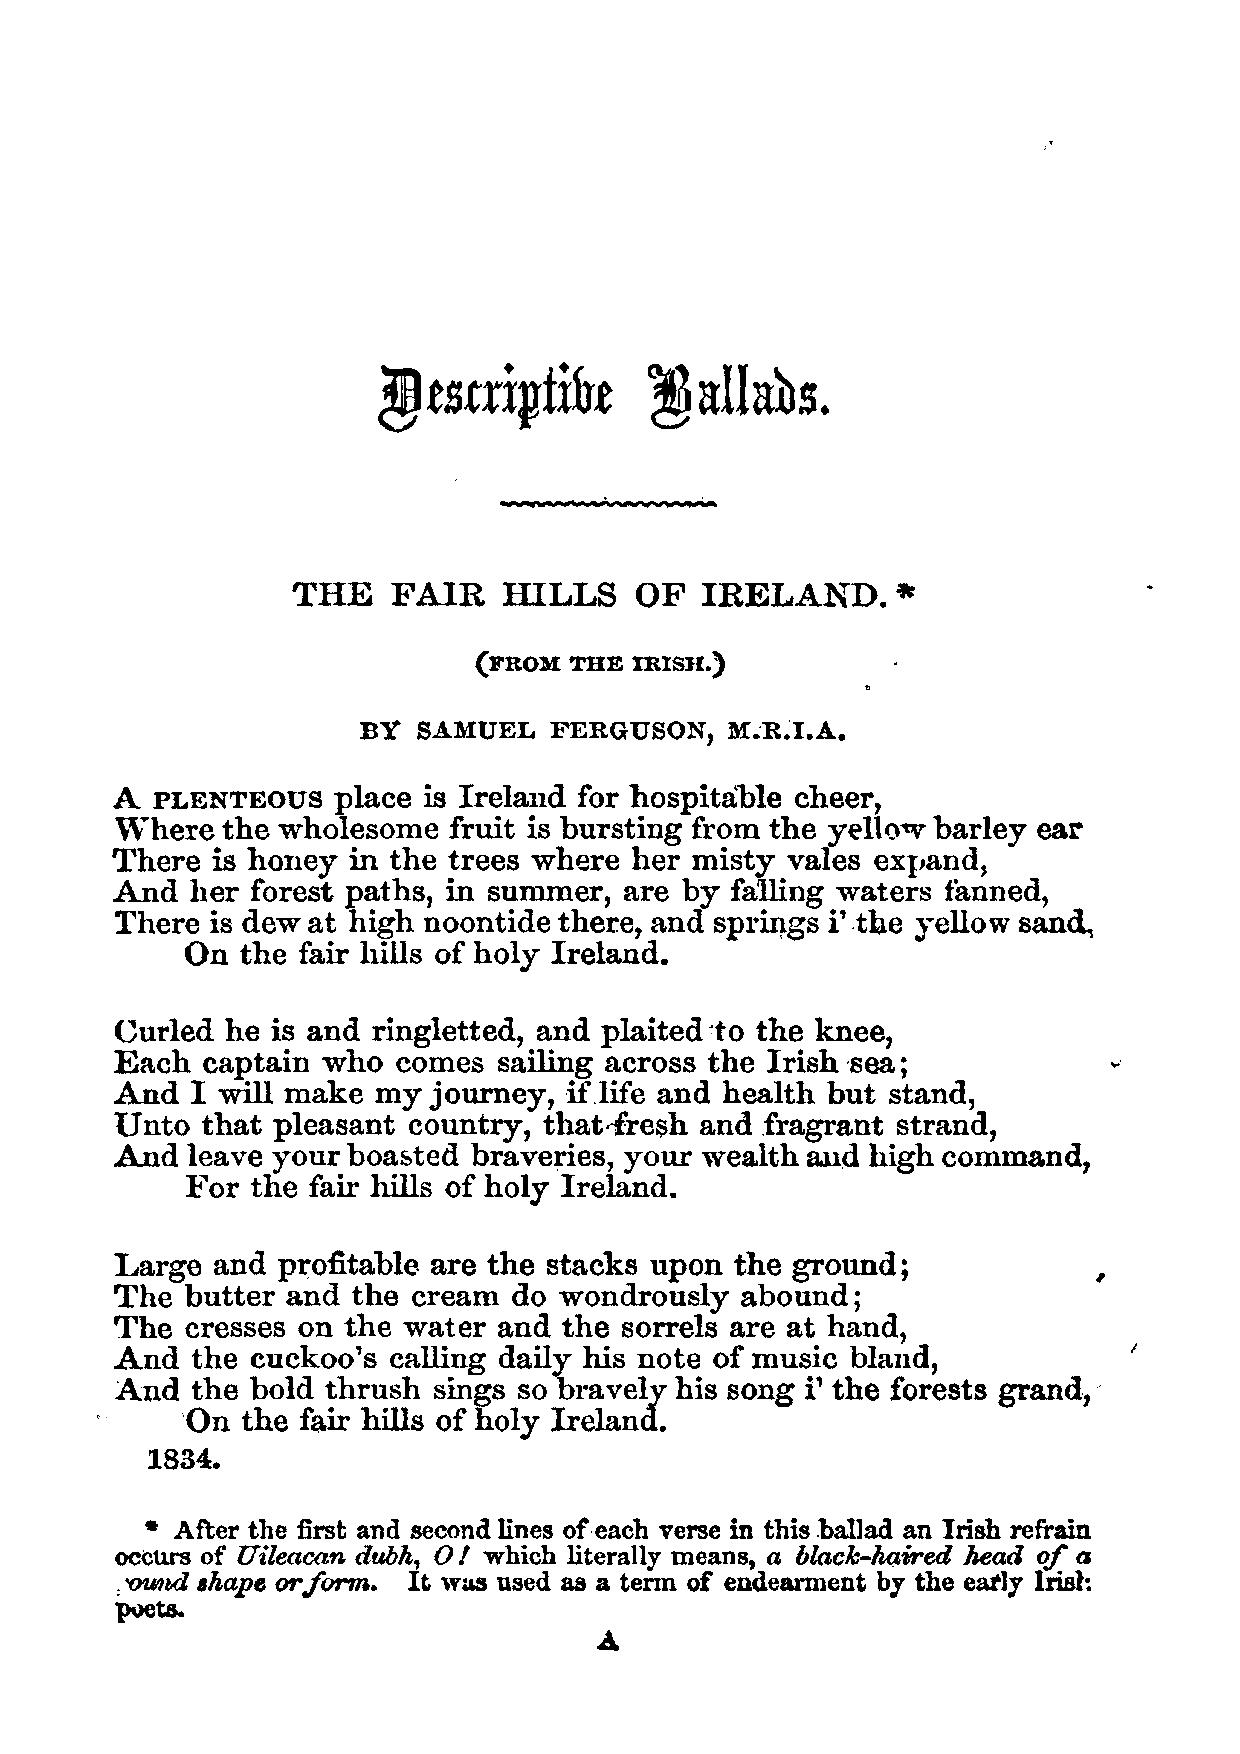chapter: (287, 577, 918, 747), (373, 357, 833, 442)
content: (110, 782, 1094, 1627)
content_pagenumber: (595, 1629, 620, 1653)
